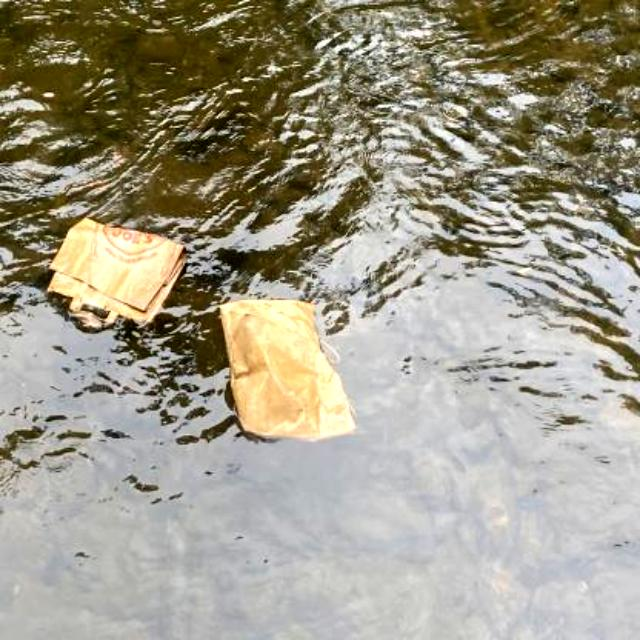Paper: (212, 294, 362, 446), (45, 212, 191, 330)
